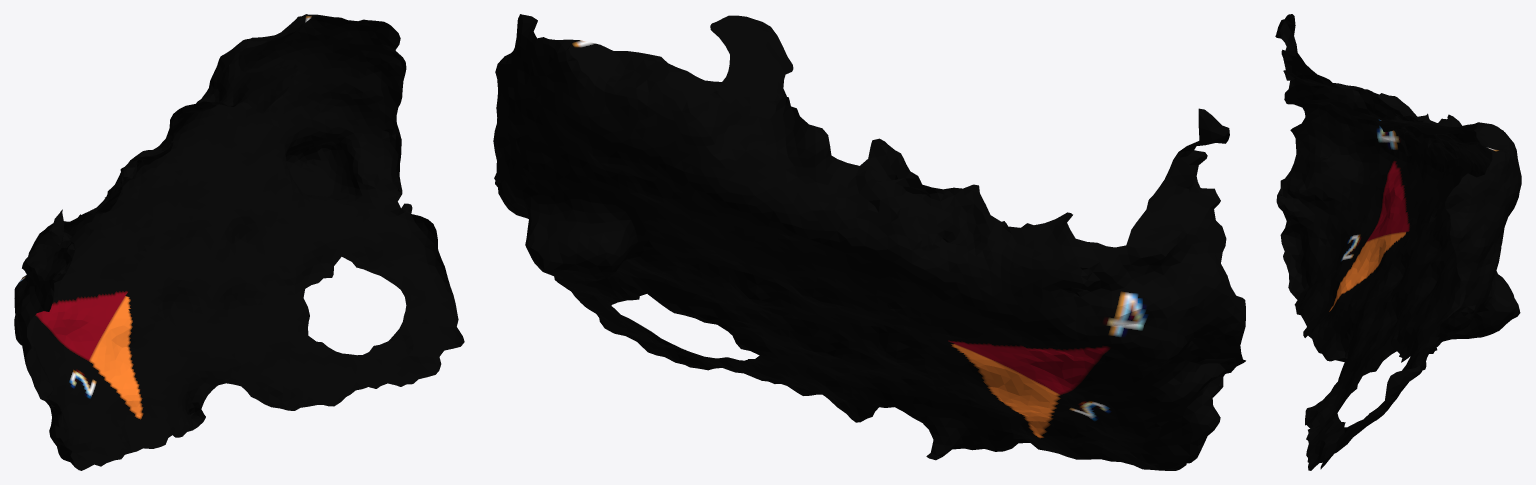
Rendered from texturedMesh.obj.
3 renders of one model, left to right at view 1: azimuth 30°, elevation 25°; view 2: azimuth 150°, elevation 25°; view 3: azimuth 270°, elevation 25°, orthographic. The views are drawn at different scales.
Visible parts, largest first — view 1: TexturedMesh; view 2: TexturedMesh; view 3: TexturedMesh.
Part boxes in pixels (x1=…): TexturedMesh: x1=14, y1=14, x2=464, y2=470; TexturedMesh: x1=493, y1=14, x2=1245, y2=470; TexturedMesh: x1=1275, y1=14, x2=1521, y2=470.
Size of the model in its own units: 0.7067 by 0.4503 by 0.3248.
